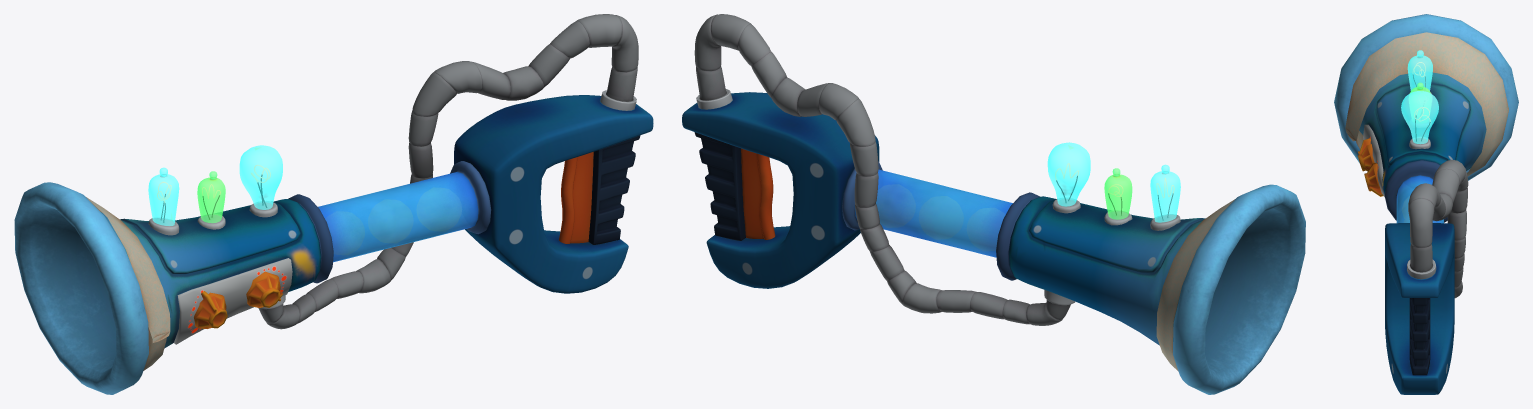
Rendered from stylized_weapon.glb.
3 renders of one model, left to right at view 1: azimuth 30°, elevation 25°; view 2: azimuth 150°, elevation 25°; view 3: azimuth 270°, elevation 25°, orthographic. The views are drawn at different scales.
Visible parts, largest first — view 1: Cylinder001 (×2); view 2: Cylinder001 (×2); view 3: Cylinder001 (×2).
Part boxes in pixels (bbox=[...]): Cylinder001 (×2): bbox=[14, 14, 653, 394]; Cylinder001 (×2): bbox=[682, 14, 1305, 394]; Cylinder001 (×2): bbox=[1334, 14, 1518, 394].
Bounding box in the file's own units: 2 × 0.8417 × 0.6718.
2 materials, 2 textured.
